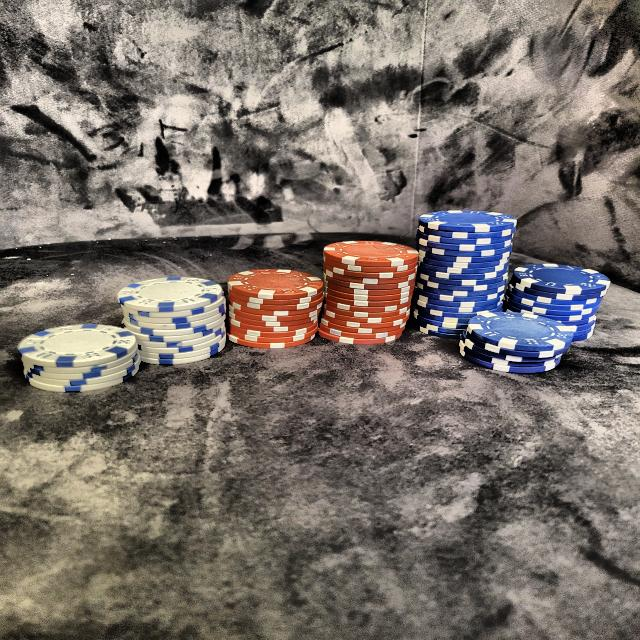Chip: (416, 202, 521, 347), (117, 263, 230, 374), (23, 310, 151, 402), (321, 232, 417, 352), (502, 257, 616, 350), (228, 257, 328, 358), (444, 309, 581, 376)
